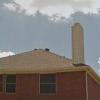Chimney: (63, 17, 94, 62)
